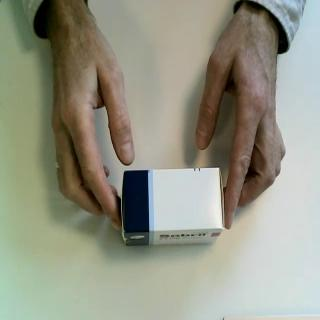sobril25mg: (120, 166, 226, 248)
